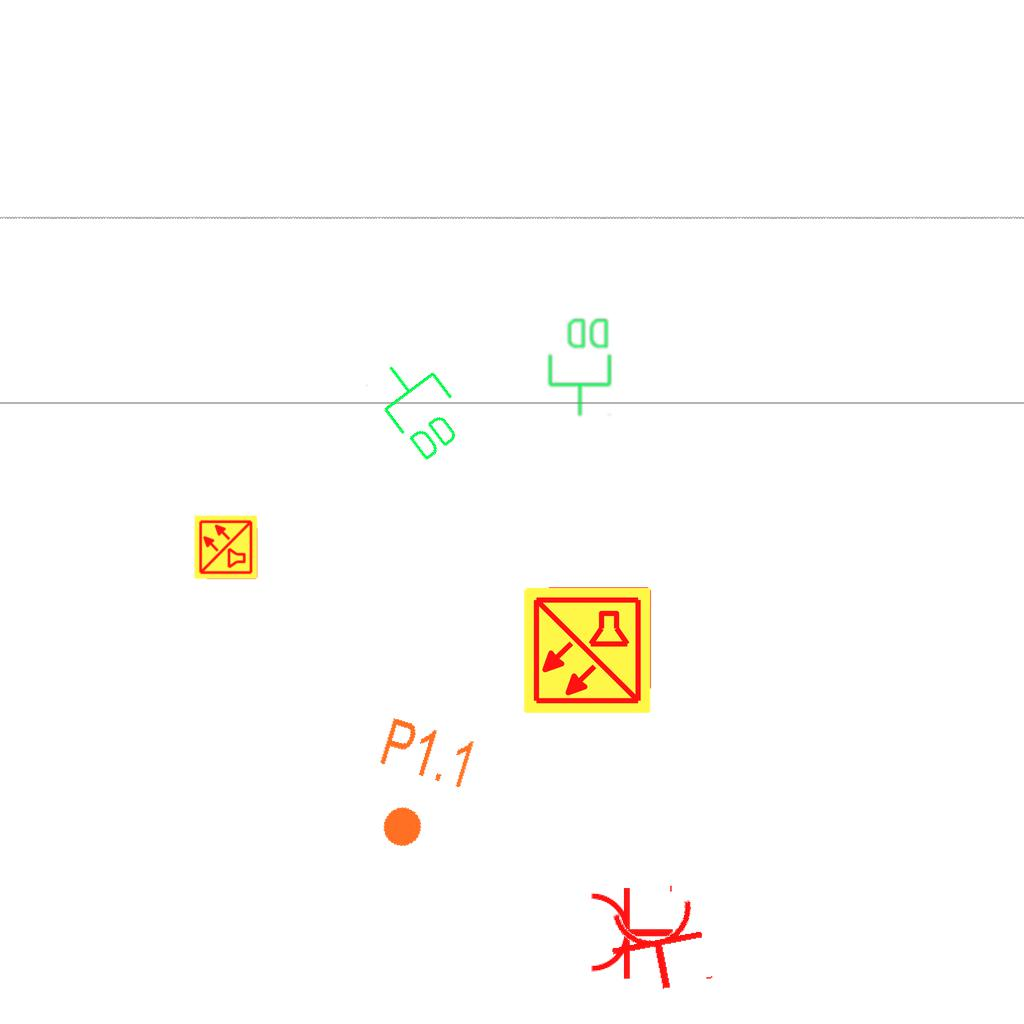Datenanschluss_zweifach: (360, 344, 479, 469), (546, 315, 615, 418)
Downlight_LED_Einbauleuchten_Flur: (354, 713, 481, 863)
OKW_Multisensormelder_(Kombination_optischer_Rauch-Kahlenmonoxid_Waerme-Melder): (521, 584, 653, 716), (193, 514, 259, 580)
Schukosteckdose_einfach: (603, 894, 718, 1000), (588, 881, 675, 981)
